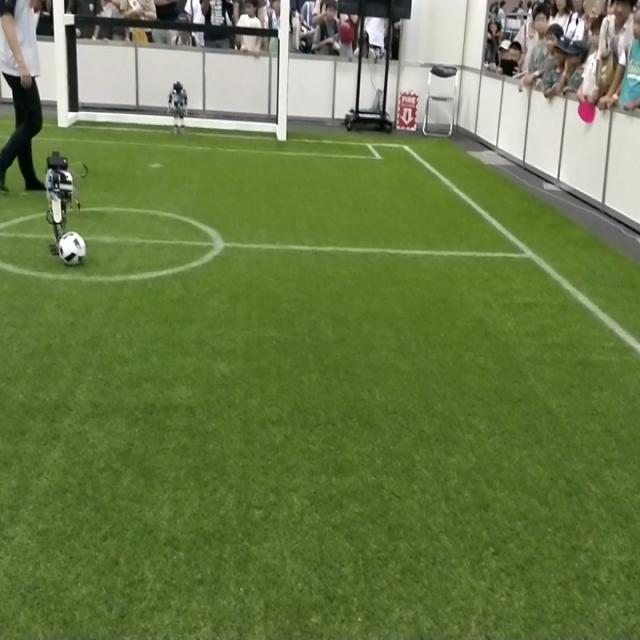ball: (57, 229, 88, 268)
goalpost: (50, 0, 70, 125), (276, 0, 290, 141)
